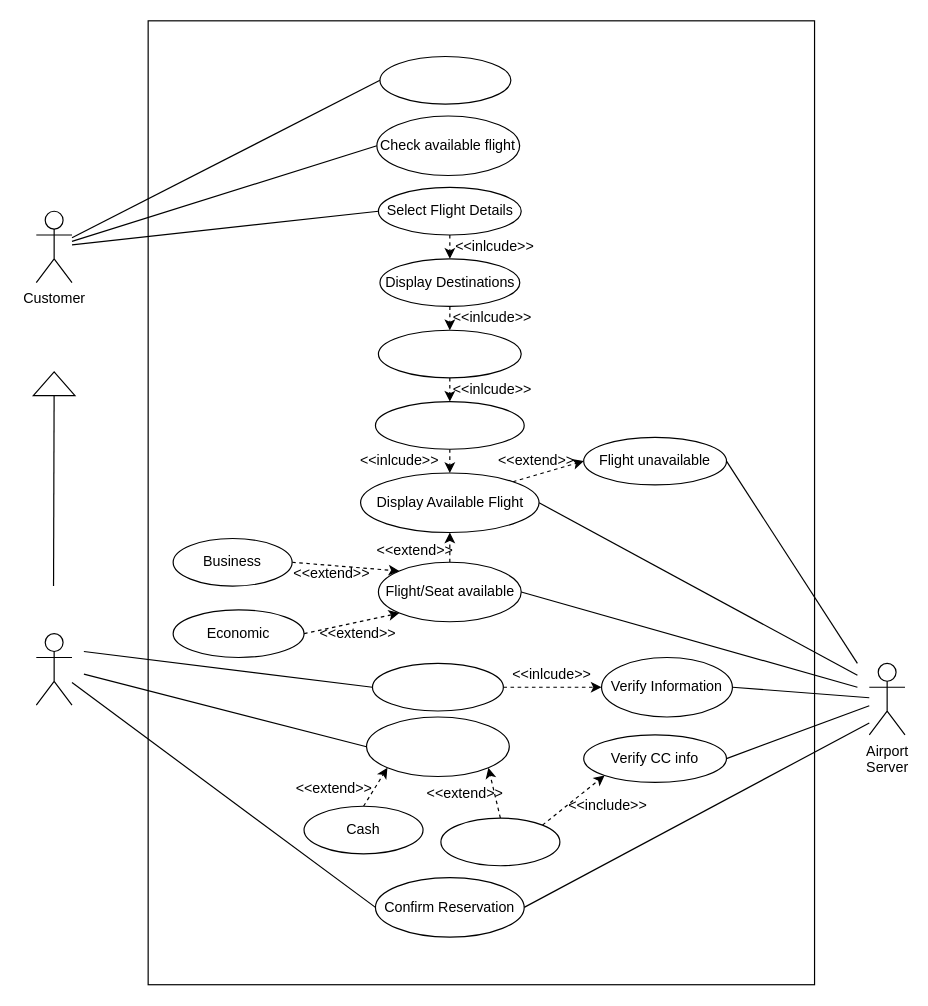
This 928x1006 diagram has some shape labels left out. The centre of each missing label's shape, as x and y in pixels:
Credit Card: the point at 500,841
Log in: the point at 437,686
Passanger: the point at 53,668
Payment: the point at 437,746
Search Flight: the point at 445,79
Select Date and Time: the point at 449,424
Select Destination: the point at 449,353
